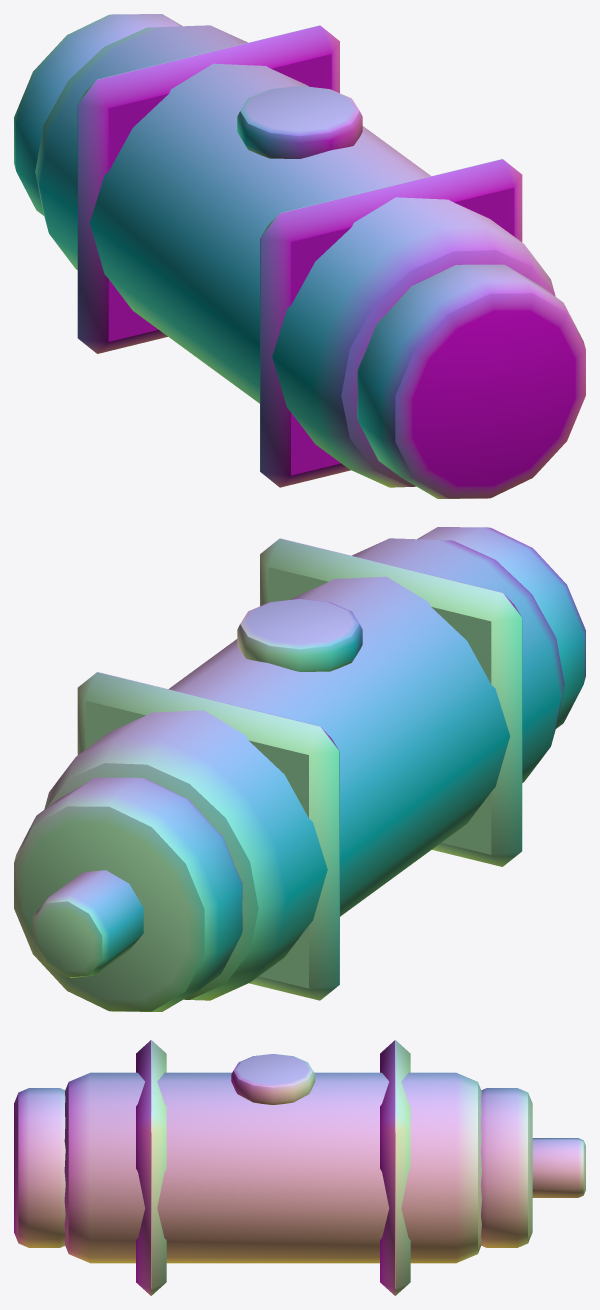
The model's file is att_tank.glb.
3 views of the same model, one above another, from view 1: azimuth 30°, elevation 25°; view 2: azimuth 150°, elevation 25°; view 3: azimuth 270°, elevation 25° (orthographic). The views are drawn at different scales.
Visible parts, largest first — view 1: att_tank_mesh; view 2: att_tank_mesh; view 3: att_tank_mesh.
Boxes of the visible parts, box(x1,y1,x2,y2) form: att_tank_mesh: box(14, 14, 585, 498); att_tank_mesh: box(14, 527, 585, 1011); att_tank_mesh: box(14, 1040, 585, 1295).
Bounding box in the file's own units: 0.0265 × 0.0275 × 0.075.
